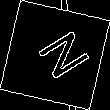N_SW: (23, 25, 87, 85)
